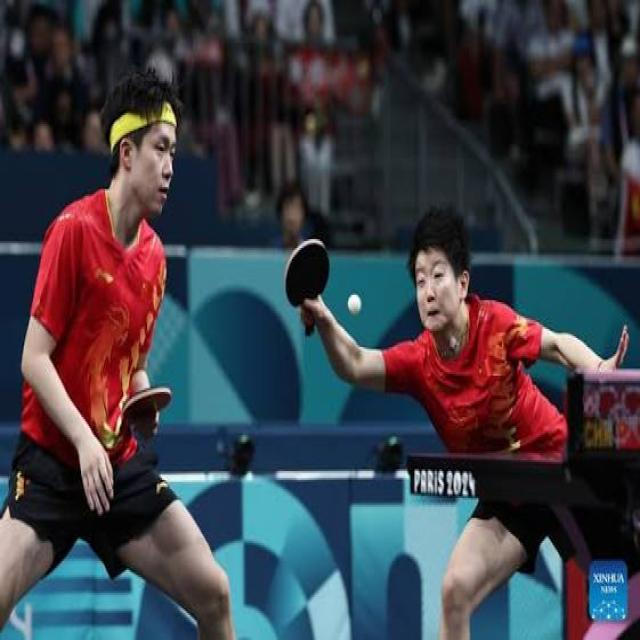TT Net: (566, 364, 639, 473)
TT Racket: (274, 229, 338, 318), (117, 377, 175, 433)
TT Table: (412, 441, 639, 489)
